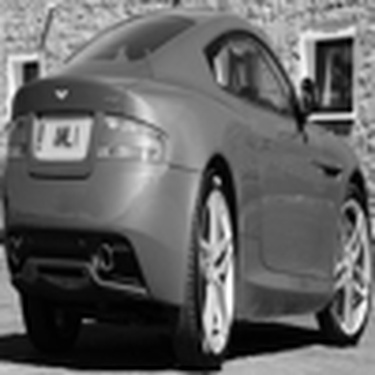car: (2, 2, 371, 372)
